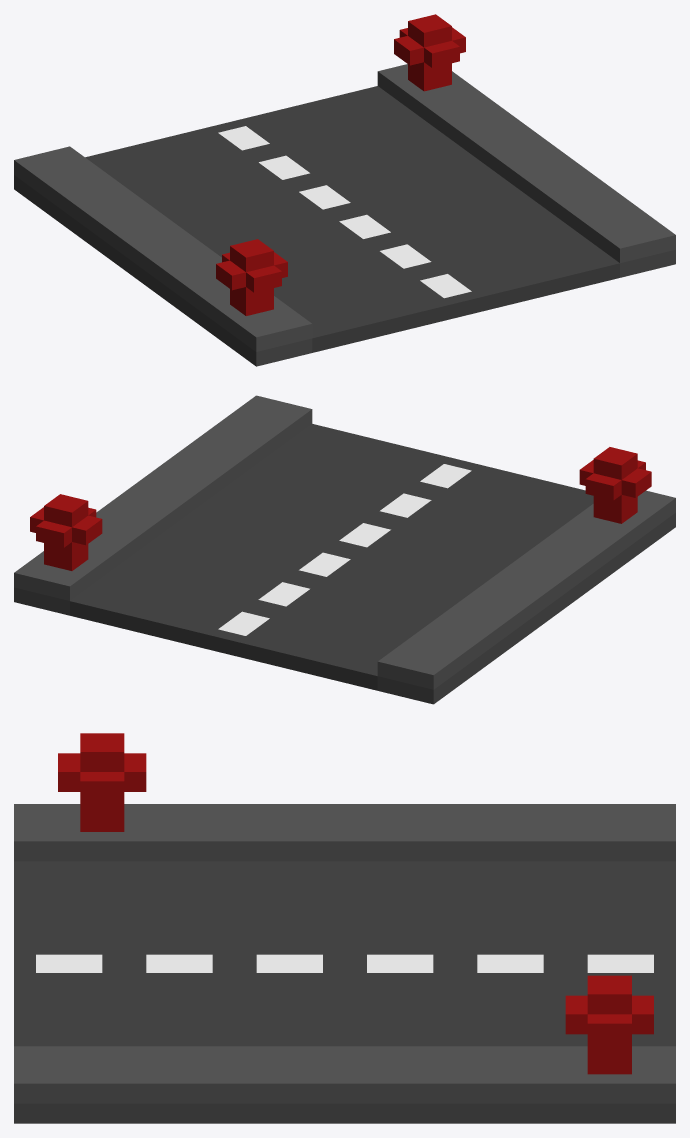
Rendered from roadHydrants.obj.
3 renders of one model, top to bottom at view 1: azimuth 30°, elevation 25°; view 2: azimuth 150°, elevation 25°; view 3: azimuth 270°, elevation 25°, orthographic. The views are drawn at different scales.
Size of the model in its own units: 30 by 6 by 30.
1 material, 1 textured.
